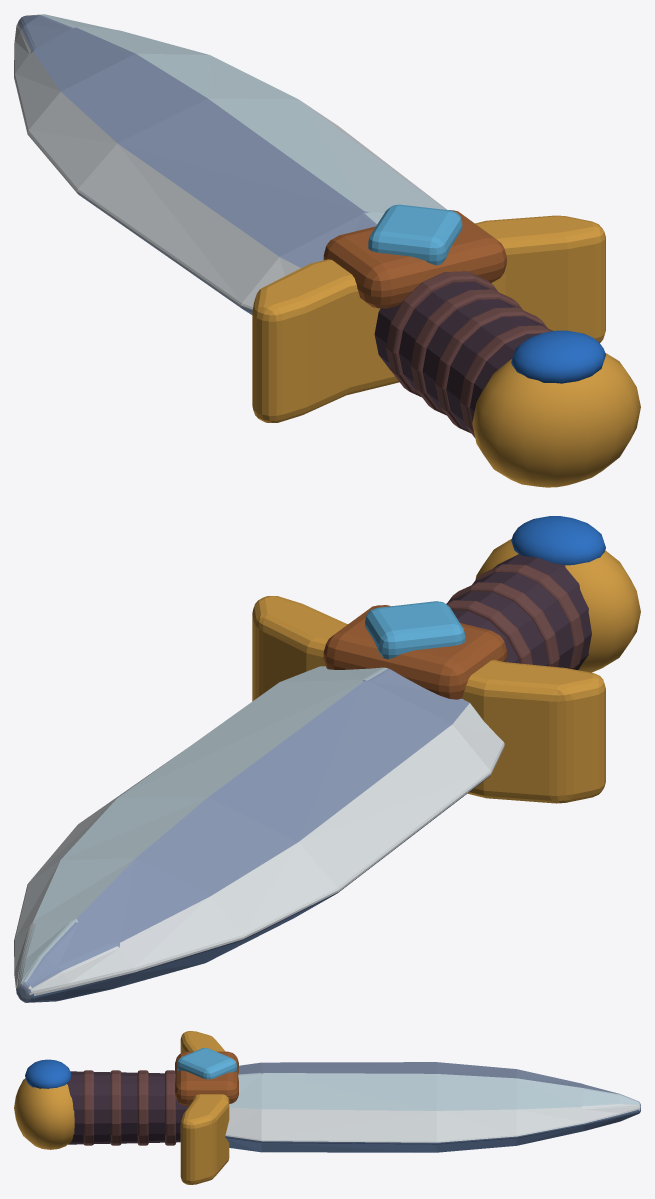
Rendered from KnightBlueBlade.fbx.
3 renders of one model, top to bottom at view 1: azimuth 30°, elevation 25°; view 2: azimuth 150°, elevation 25°; view 3: azimuth 270°, elevation 25°, orthographic. The views are drawn at different scales.
Parts seen in each view (by area): view 1: Paint; view 2: Paint; view 3: Paint.
Boxes of the visible parts, <box> form: Paint: <box>14,14,640,487</box>; Paint: <box>14,516,640,1002</box>; Paint: <box>14,1031,640,1184</box>.
Size of the model in its own units: 40.73 by 17.55 by 115.
